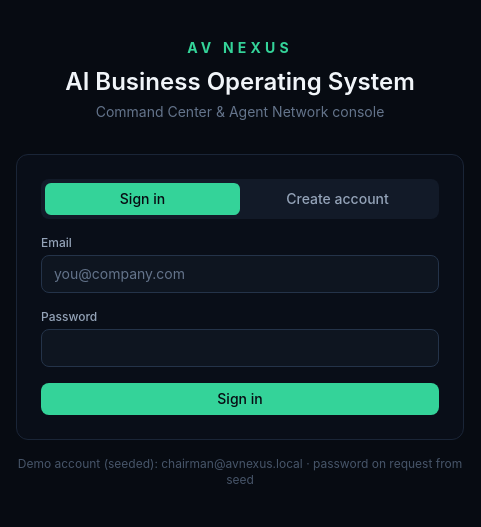
it: LoginPage › shows an error message when authentication fails
Type "bad@example.com" into the field labelled "Email" at (240, 274), box [41,255,439,293]
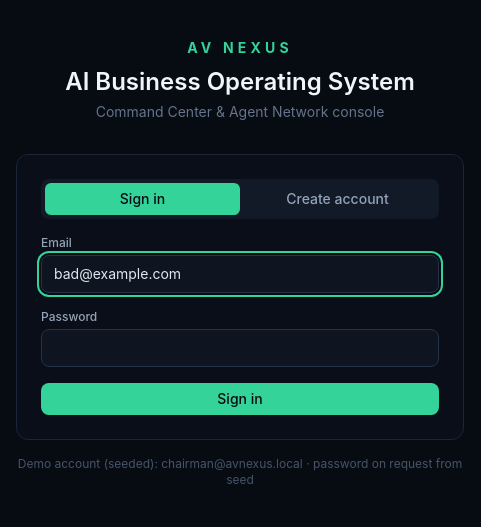
Type "secret123" into the password field labelled "Password" at (240, 348), box [41,329,439,367]
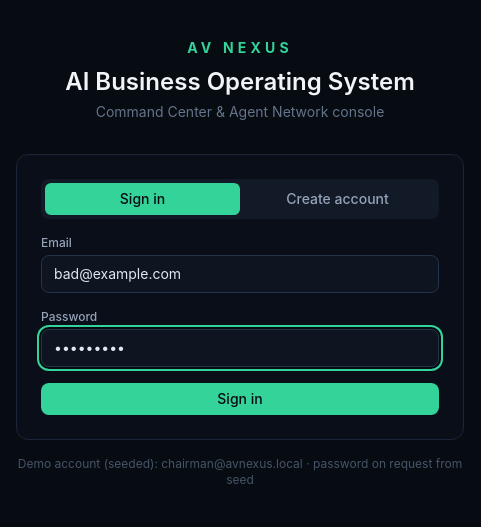
Click the button "Sign in" at (240, 399), box [41,383,439,415]
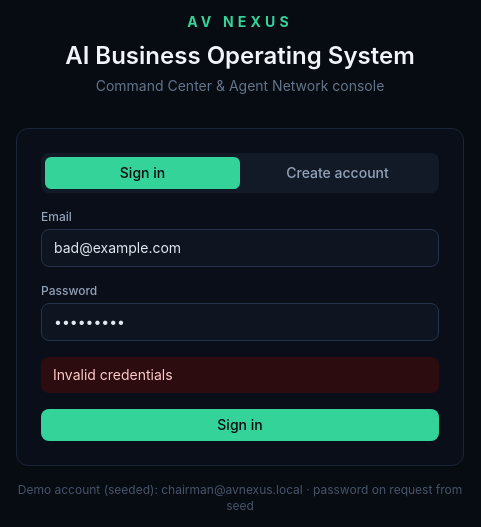
Expected: the message "Invalid credentials" is shown, [41,357,439,393]
Expected: the message reads "Invalid credentials", [53,366,173,383]
